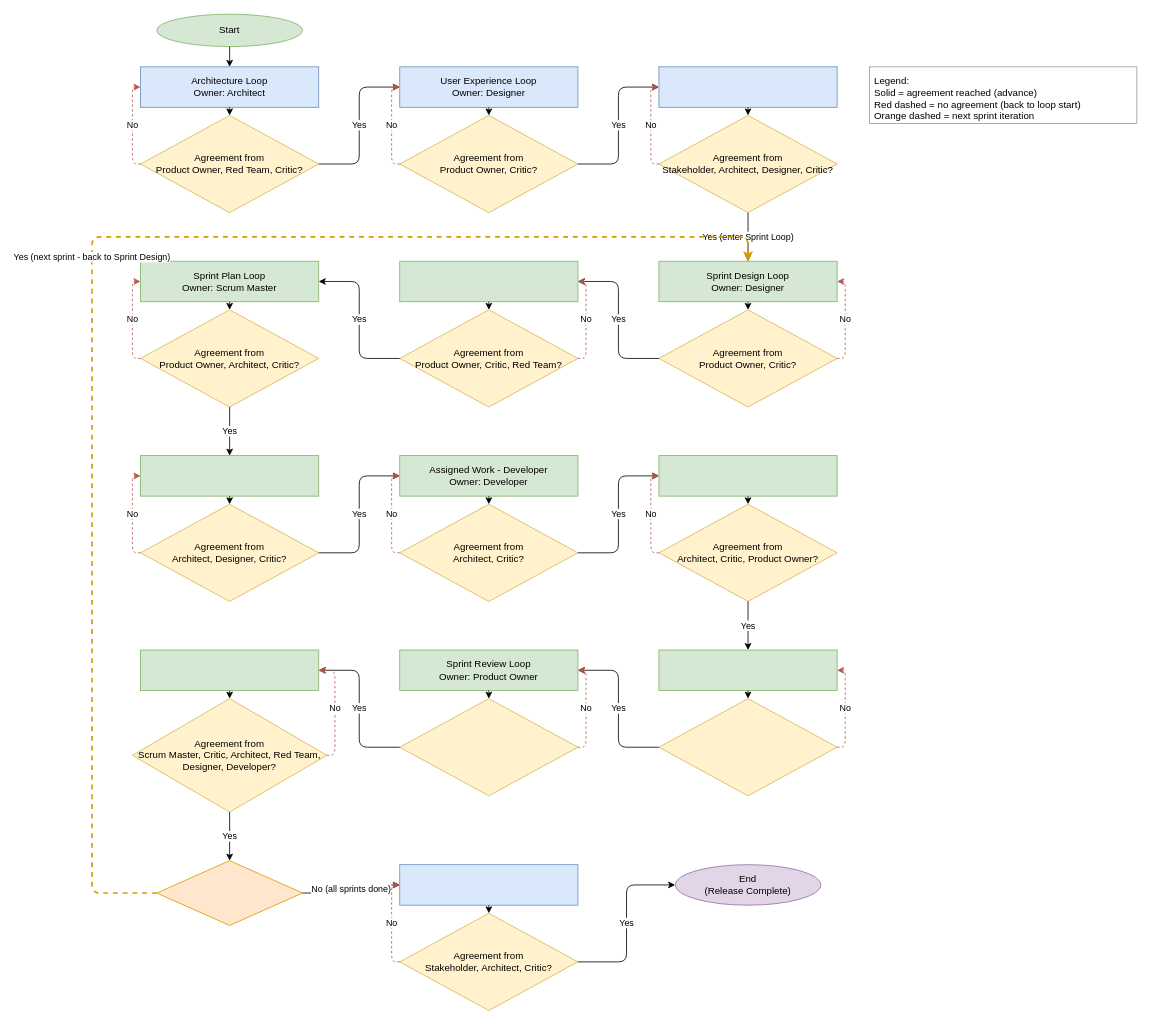
This 1151x1025 diagram has some shape labels left out. The shapes that lost their labels are listed below. From the top down, each one's centre as x and y in pixels, then its label:
At point (747, 86): "Release Plan Loop Owner: Product Owner".
At point (488, 281): "Sprint Architecture Loop Owner: Architect".
At point (229, 475): "Assigned Work - UI Developer Owner: Developer".
At point (747, 475): "End-to-End Test Loop Owner: Developer".
At point (229, 670): "Sprint Retrospective Loop Owner: Product Owner".
At point (747, 670): "DevOps Work Loop Owner: DevOps Engineer".
At point (488, 747): "Agreement from Scrum Master, Critic, Architect, Red Team?".
At point (747, 747): "Agreement from Architect, Critic, Developer?".
At point (229, 892): "More sprints in release plan?".
At point (488, 884): "Release Closeout Loop Owner: Product Owner".
